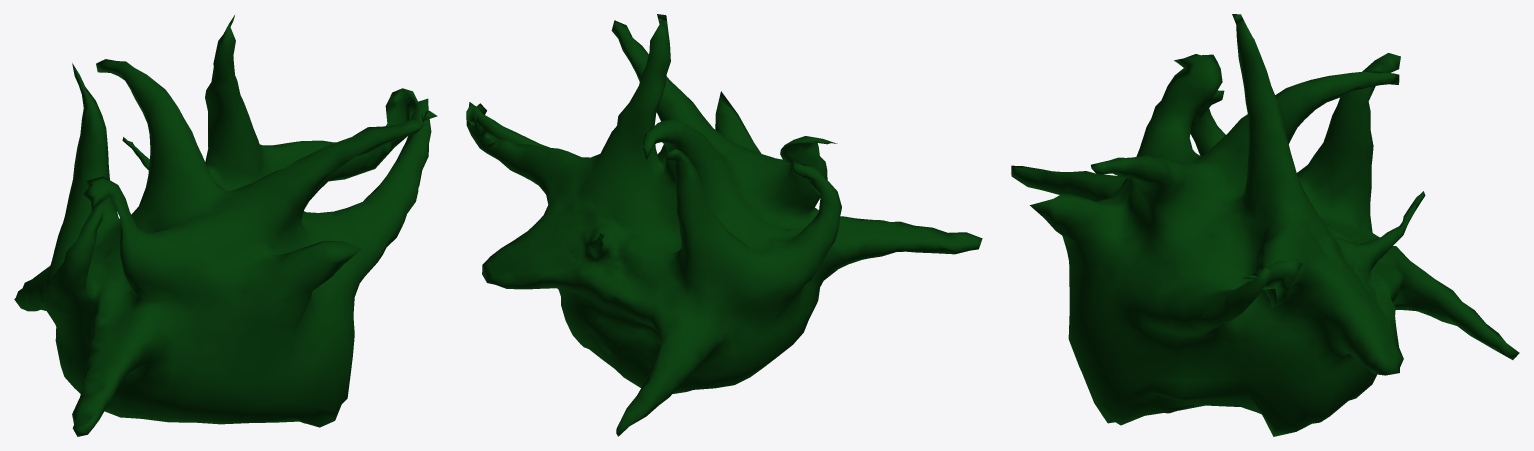
The model's file is jump_cthulhu_0019.obj.
The picture shows the model from 3 angles, left to right: view 1: azimuth 30°, elevation 25°; view 2: azimuth 150°, elevation 25°; view 3: azimuth 270°, elevation 25°; orthographic projection. The views are drawn at different scales.
Visible parts, largest first — view 1: Cube; view 2: Cube; view 3: Cube.
Part boxes in pixels (x1=…): Cube: x1=14, y1=15, x2=437, y2=436; Cube: x1=466, y1=14, x2=982, y2=436; Cube: x1=1011, y1=14, x2=1519, y2=436.
Size of the model in its own units: 1.21 by 0.9459 by 1.07.
